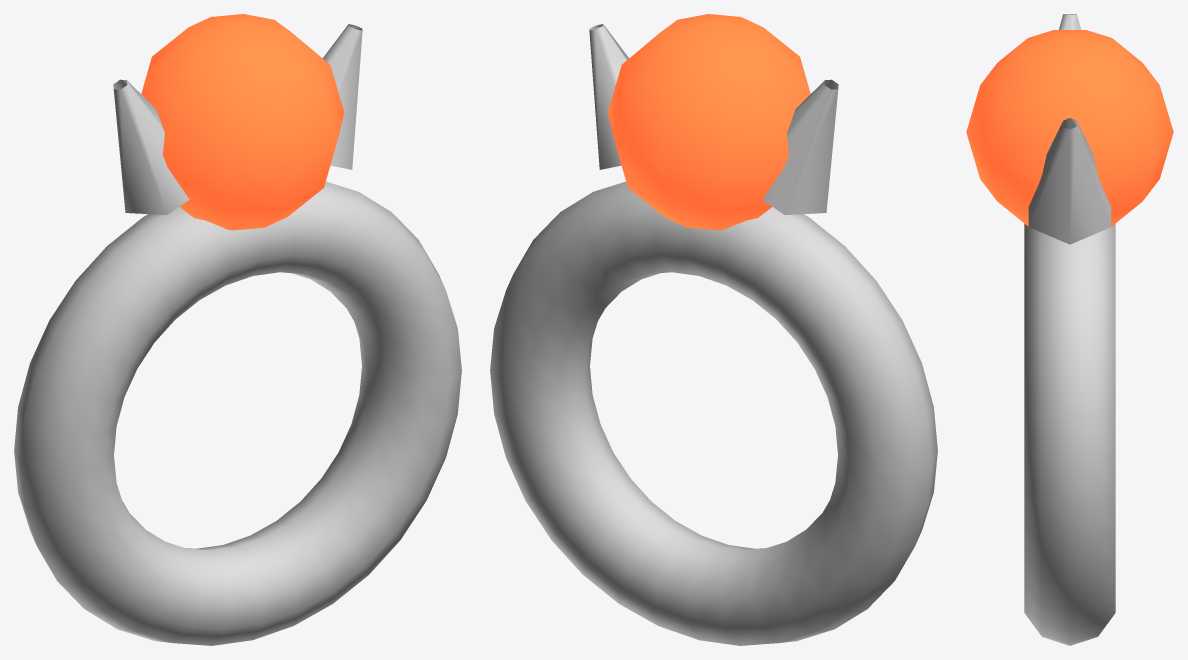
File: ember_ring.glb
3 renders of one model, left to right at view 1: azimuth 30°, elevation 25°; view 2: azimuth 150°, elevation 25°; view 3: azimuth 270°, elevation 25°, orthographic. The views are drawn at different scales.
Visible parts, largest first — view 1: ember_ring; view 2: ember_ring; view 3: ember_ring.
Part boxes in pixels (box(x1,y1,x2,y2)): ember_ring: box(14, 14, 461, 645); ember_ring: box(490, 14, 937, 645); ember_ring: box(966, 14, 1173, 645).
Bounding box in the file's own units: 0.03 × 0.0405 × 0.013.
